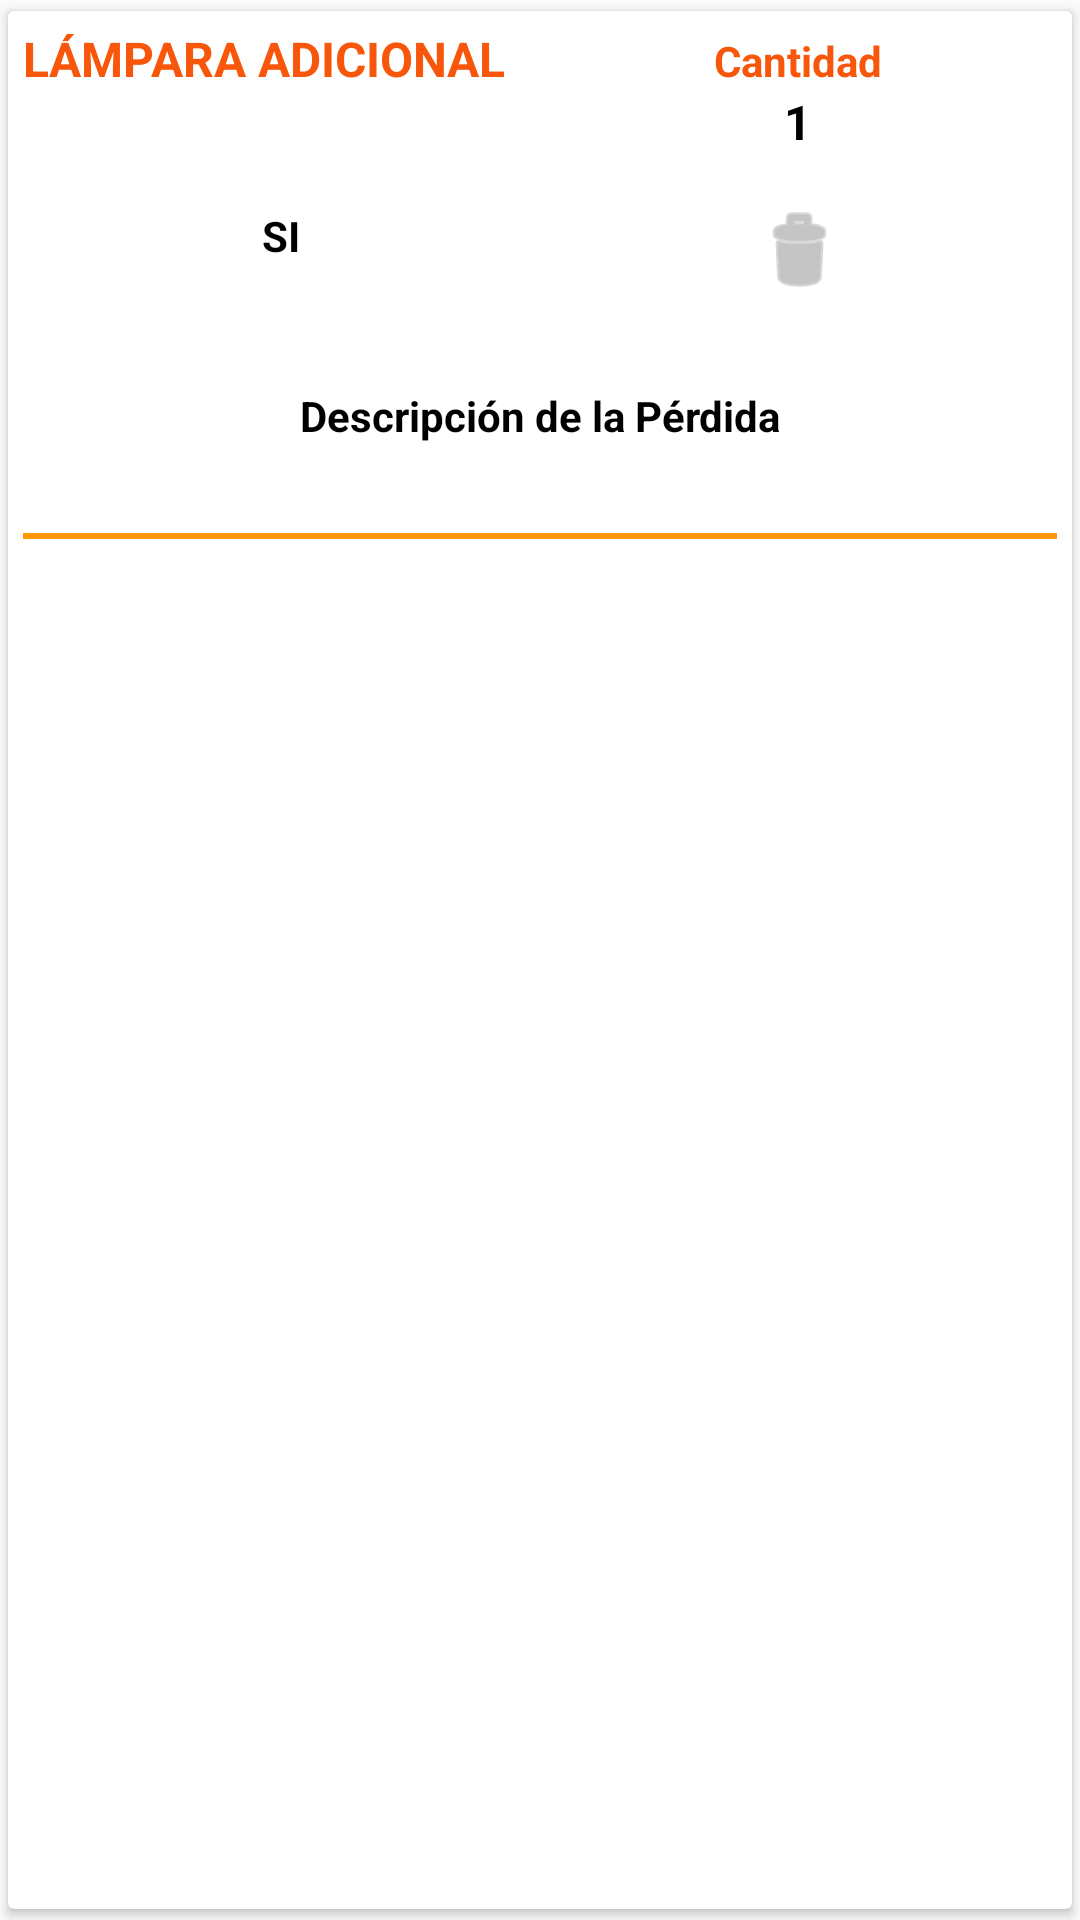

Icons on this 1080w x 1920h Android screen, each with the point to tap as point (x, y):
delete: point (799, 249)
